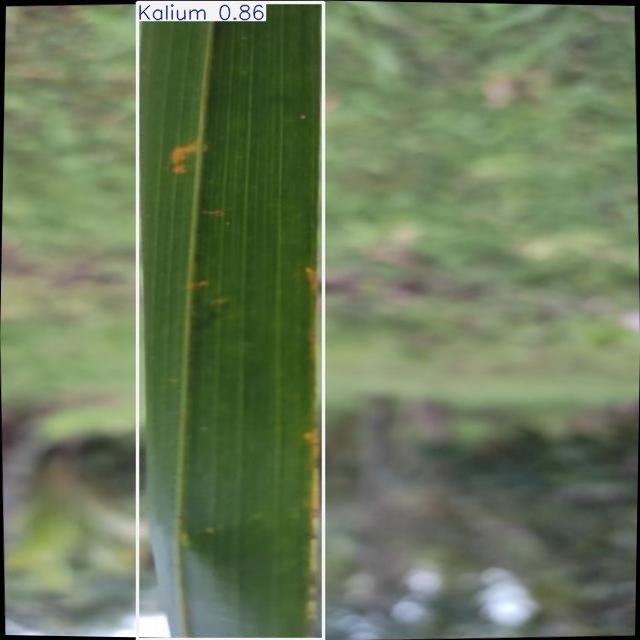Kalium: (138, 2, 324, 639)
